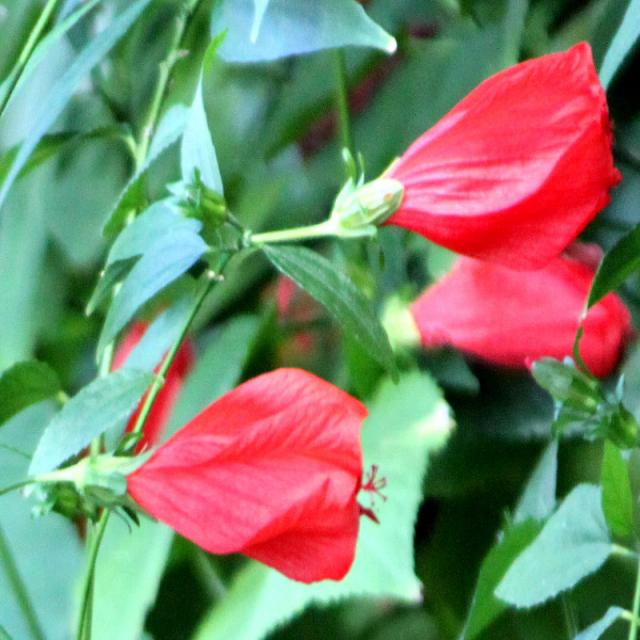Flower: (50, 371, 384, 580), (323, 32, 622, 263)
